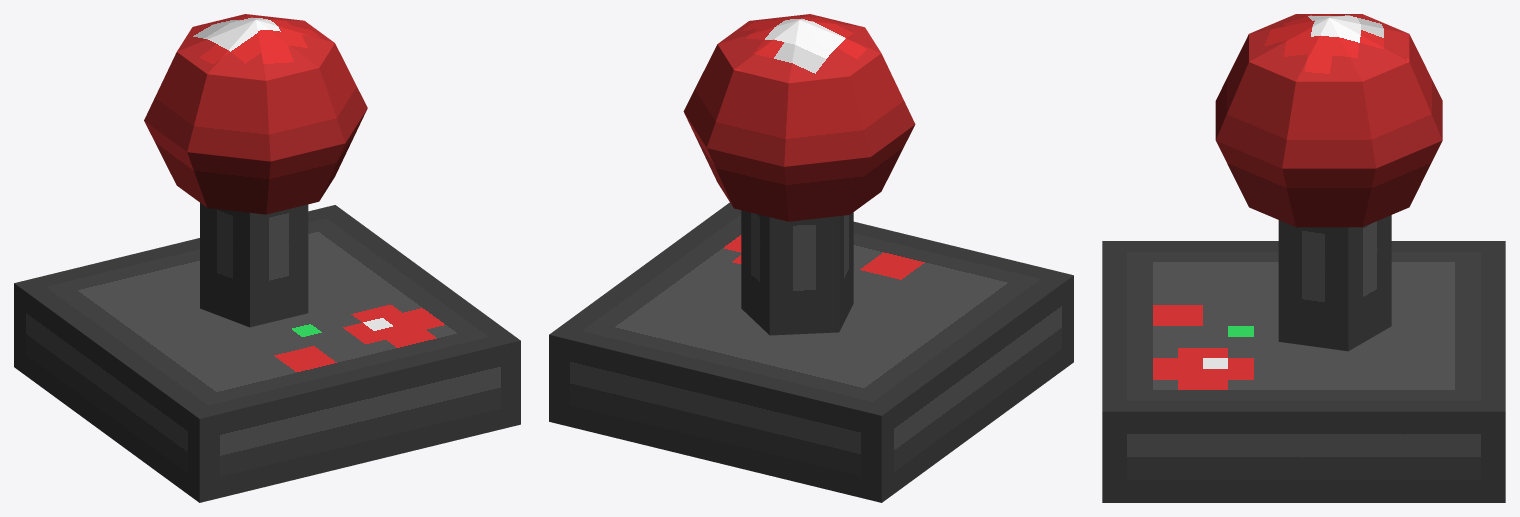
File: joystick.glb
3 renders of one model, left to right at view 1: azimuth 30°, elevation 25°; view 2: azimuth 150°, elevation 25°; view 3: azimuth 270°, elevation 25°, orthographic. The views are drawn at different scales.
Visible parts, largest first — view 1: cuboid, sphere, cylinder; view 2: cuboid, sphere, cylinder; view 3: cuboid, sphere, cylinder.
Boxes of the visible parts, x1=… form: cuboid: x1=14, y1=205, x2=520, y2=502; sphere: x1=144, y1=14, x2=367, y2=214; cylinder: x1=200, y1=203, x2=308, y2=327; cuboid: x1=549, y1=202, x2=1073, y2=502; sphere: x1=683, y1=14, x2=915, y2=221; cylinder: x1=741, y1=210, x2=853, y2=335; cuboid: x1=1102, y1=241, x2=1505, y2=502; sphere: x1=1215, y1=14, x2=1442, y2=227; cylinder: x1=1278, y1=215, x2=1391, y2=351.
Size of the model in its own units: 1 by 1.09 by 1.
Materials: 1 (1 with a texture image).
